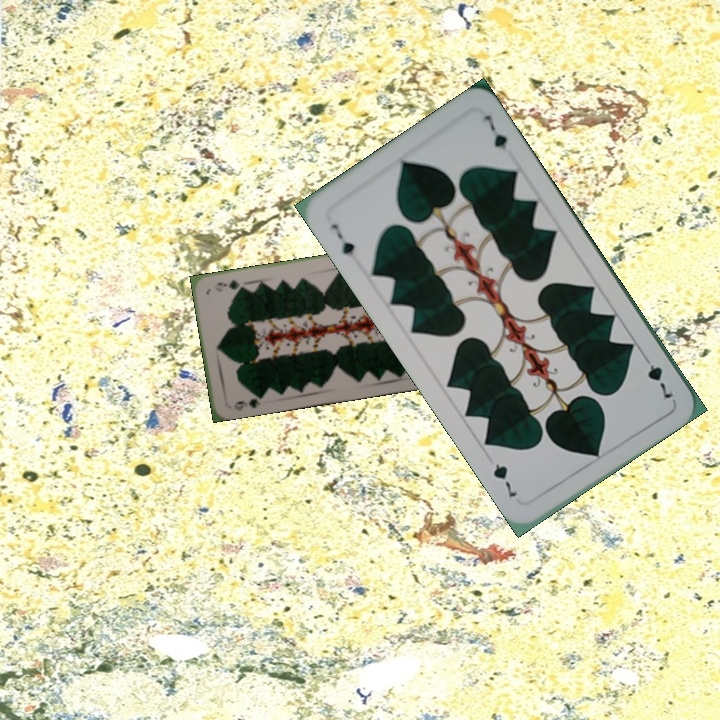G7: (638, 350, 676, 402), (326, 219, 358, 259)
G9: (230, 391, 265, 413)
